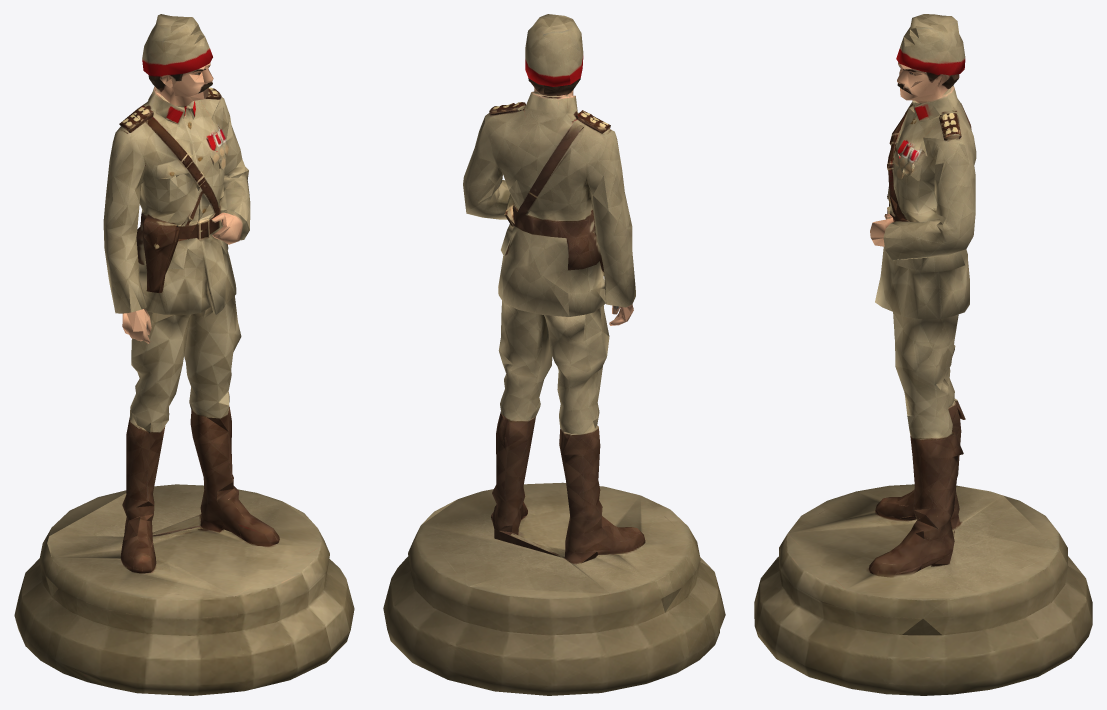
File: ottoman_queen.glb
The picture shows the model from 3 angles, left to right: view 1: azimuth 30°, elevation 25°; view 2: azimuth 150°, elevation 25°; view 3: azimuth 270°, elevation 25°; orthographic projection.
Size of the model in its own units: 1.03 by 2 by 1.01.
1 material, 1 textured.
